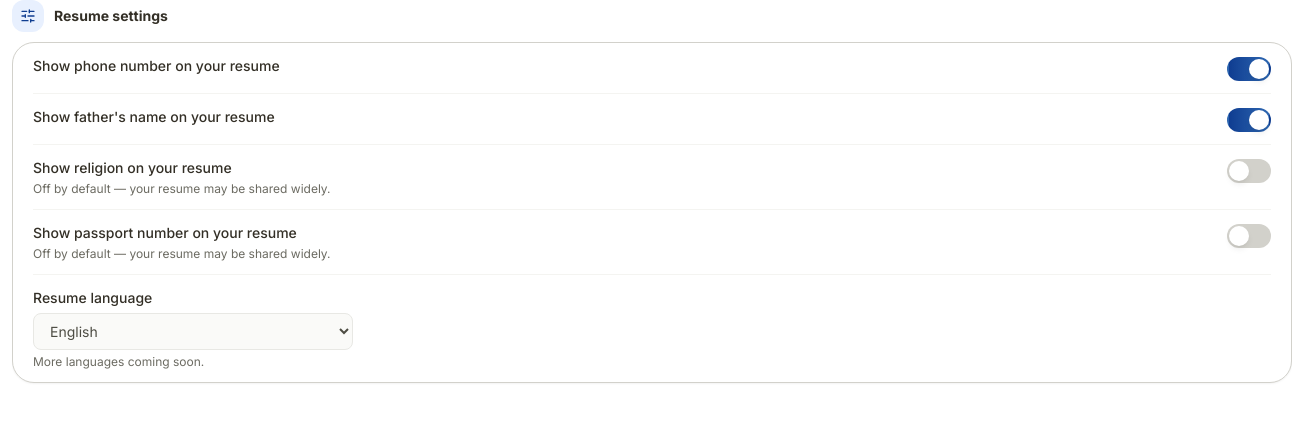
Test: ResumeSettingsPanel › a failed PATCH rolls the toggle back
Click the switch named "show religion": point(1249, 171) [1227,159,1271,183]
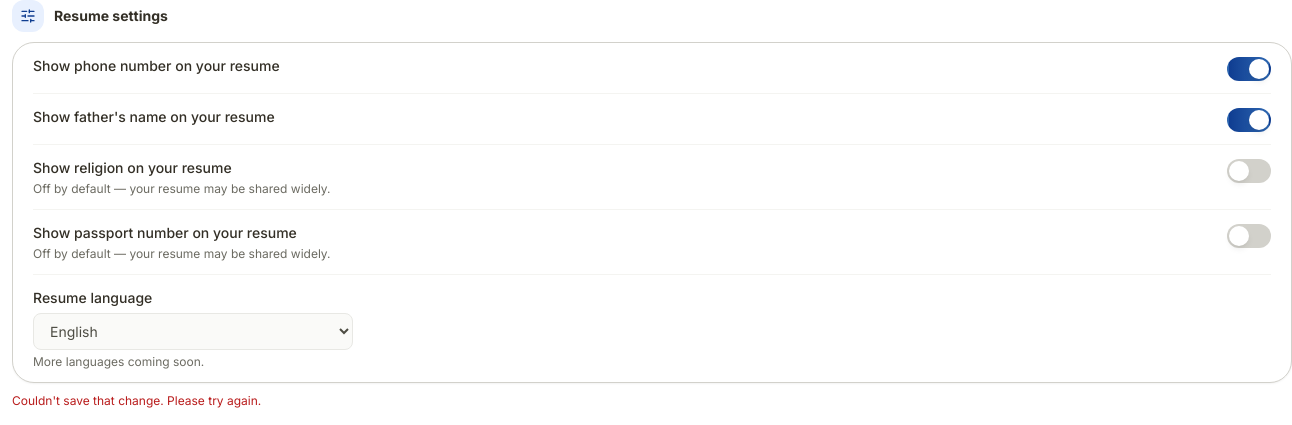
Expected: the message "Couldn't save that change. Please try again." is shown, [12,393,261,408]
